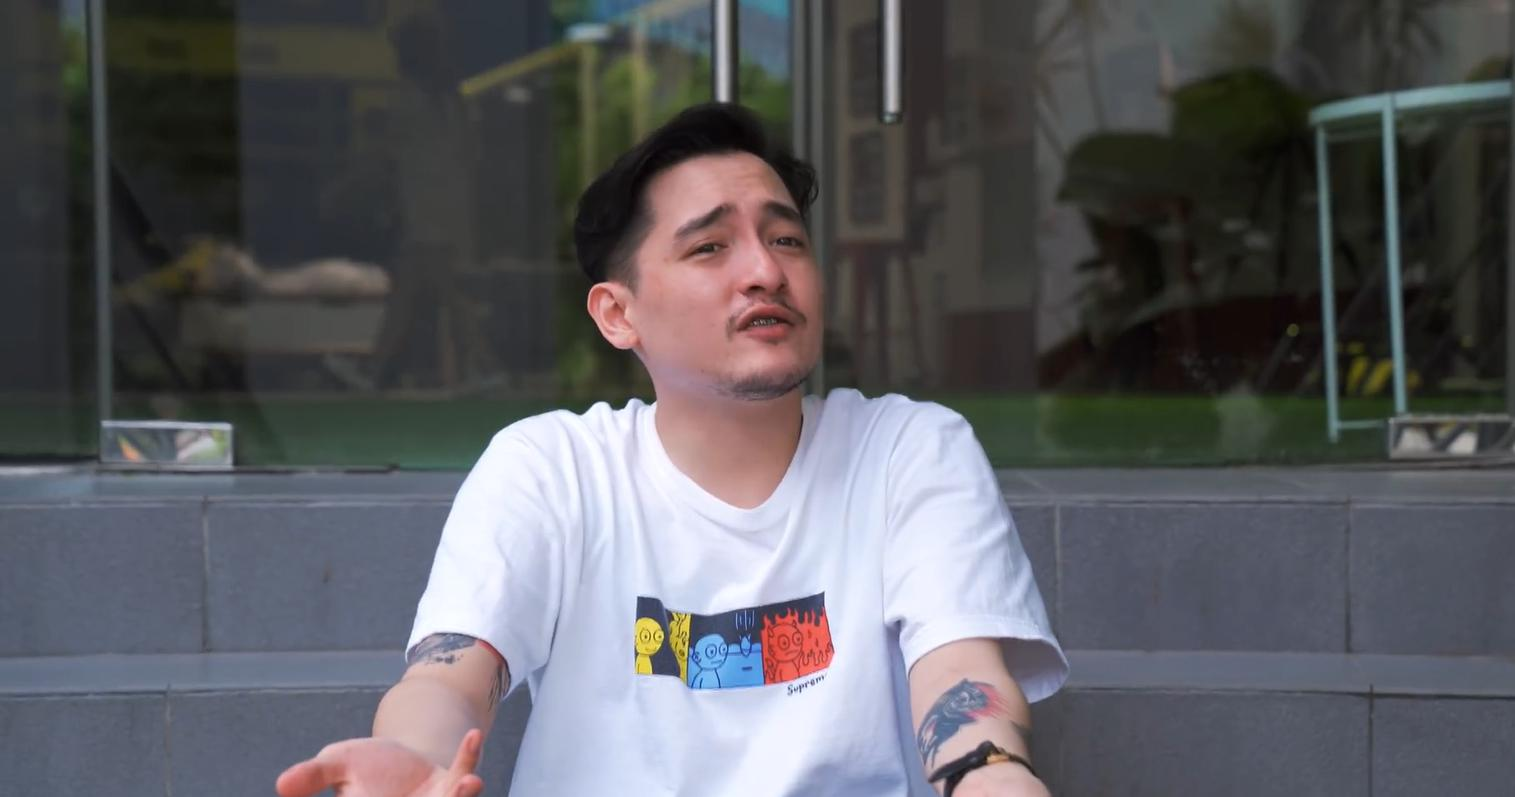without_mask: (677, 196, 789, 367)
